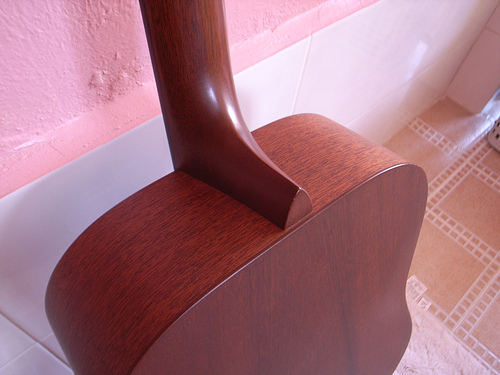guitar: (41, 1, 429, 375)
